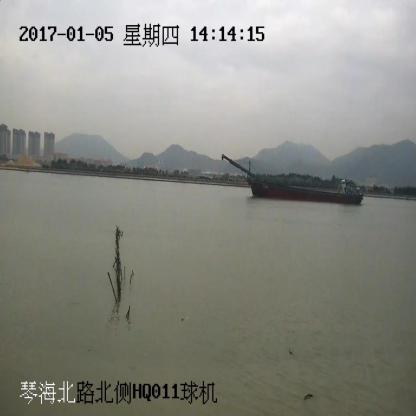Bulk Carrier: (223, 155, 362, 205)
